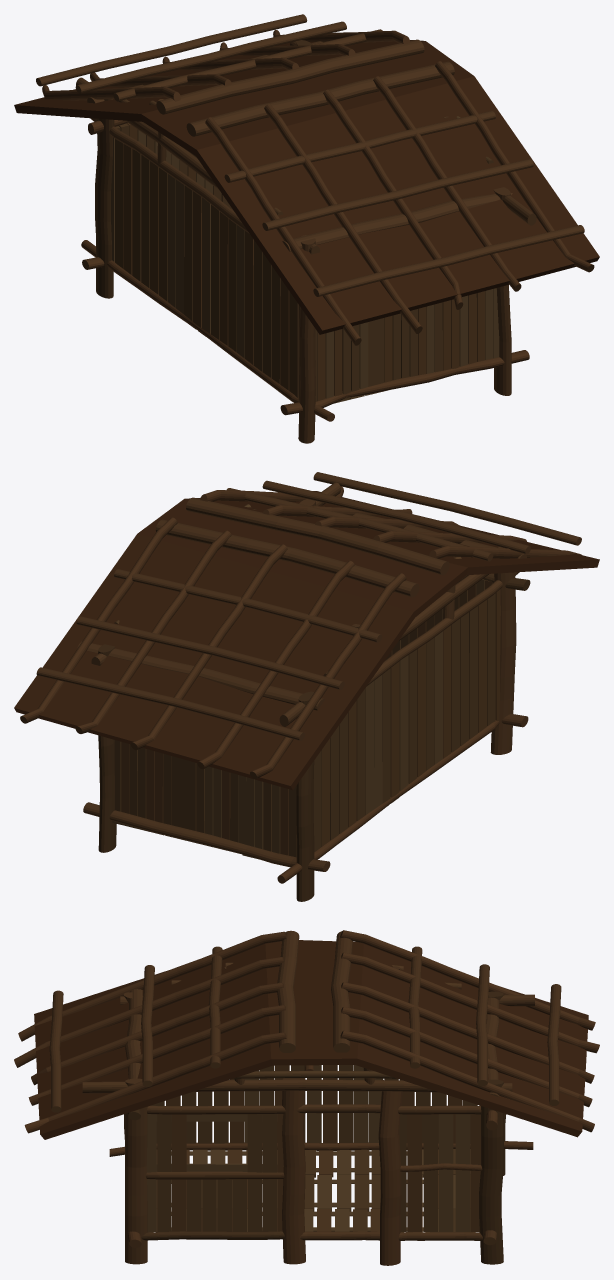
The model's file is bahay kuboL.fbx.
3 renders of one model, top to bottom at view 1: azimuth 30°, elevation 25°; view 2: azimuth 150°, elevation 25°; view 3: azimuth 270°, elevation 25°, orthographic. The views are drawn at different scales.
Parts seen in each view (by area): view 1: Plane, Cylinder.022, Cylinder.023, Cylinder.002, Cylinder.040, Cylinder.033, Cylinder.034, Cylinder.041, Cylinder.032, Cylinder.028, Cylinder.003, Cylinder.026 (+53 smaller); view 2: Plane, Cylinder.023, Cylinder.022, Cylinder.003, Cylinder.014, Cylinder.041, Cylinder.040, Cylinder.033, Cylinder.034, Cylinder.039, Cylinder.002, Cylinder.025 (+57 smaller); view 3: Plane, Cylinder.006, Cylinder.005, Cylinder.001, Cylinder, Cylinder.017, Cylinder.031, Cylinder.028, Cylinder.037, Cylinder.038, Cylinder.030, Cylinder.026 (+54 smaller).
Part boxes in pixels (x1=…): Plane: x1=14, y1=40, x2=599, y2=334; Cylinder.022: x1=156, y1=39, x2=424, y2=114; Cylinder.023: x1=186, y1=61, x2=454, y2=136; Cylinder.002: x1=95, y1=99, x2=114, y2=298; Cylinder.040: x1=75, y1=21, x2=346, y2=93; Cylinder.033: x1=262, y1=159, x2=533, y2=230; Cylinder.034: x1=313, y1=225, x2=584, y2=296; Cylinder.041: x1=36, y1=14, x2=307, y2=86; Cylinder.032: x1=224, y1=111, x2=495, y2=182; Cylinder.028: x1=264, y1=104, x2=422, y2=333; Cylinder.003: x1=298, y1=235, x2=315, y2=443; Cylinder.026: x1=205, y1=117, x2=361, y2=345; Plane: x1=14, y1=491, x2=599, y2=790; Cylinder.023: x1=186, y1=497, x2=449, y2=575; Cylinder.022: x1=155, y1=519, x2=419, y2=597; Cylinder.003: x1=490, y1=547, x2=516, y2=754; Cylinder.014: x1=83, y1=802, x2=330, y2=871; Cylinder.041: x1=36, y1=667, x2=304, y2=740; Cylinder.040: x1=76, y1=616, x2=344, y2=689; Cylinder.033: x1=262, y1=480, x2=530, y2=554; Cylinder.034: x1=313, y1=472, x2=581, y2=545; Cylinder.039: x1=114, y1=569, x2=382, y2=642; Cylinder.002: x1=296, y1=691, x2=314, y2=901; Cylinder.025: x1=250, y1=573, x2=406, y2=778; Plane: x1=34, y1=940, x2=588, y2=1139; Cylinder.006: x1=282, y1=1078, x2=305, y2=1264; Cylinder.005: x1=378, y1=1091, x2=402, y2=1265; Cylinder.001: x1=479, y1=1079, x2=503, y2=1264; Cylinder: x1=125, y1=1078, x2=147, y2=1264; Cylinder.017: x1=82, y1=1079, x2=512, y2=1093; Cylinder.031: x1=341, y1=952, x2=599, y2=1053; Cylinder.028: x1=14, y1=957, x2=283, y2=1067; Cylinder.037: x1=24, y1=1032, x2=286, y2=1133; Cylinder.038: x1=340, y1=1030, x2=594, y2=1132; Cylinder.030: x1=341, y1=982, x2=594, y2=1083; Cylinder.026: x1=18, y1=931, x2=286, y2=1041.
Bounding box in the file's own units: 436 × 390 × 867.
